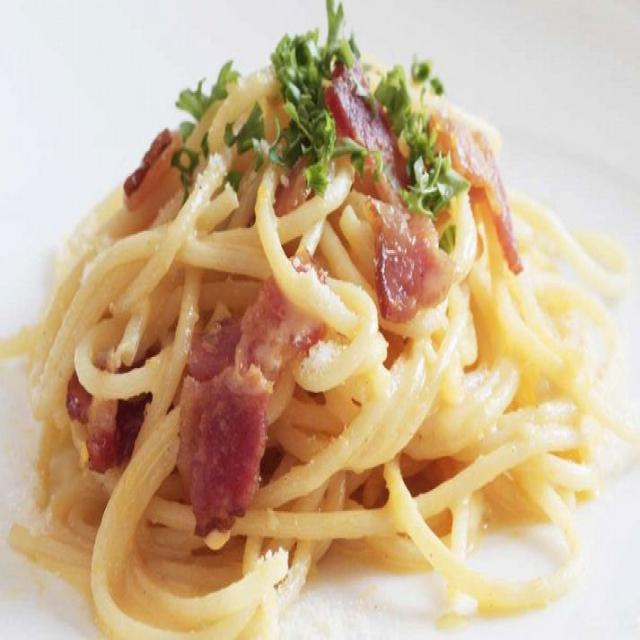Pasta with carbonara sauce: (16, 19, 594, 603)
